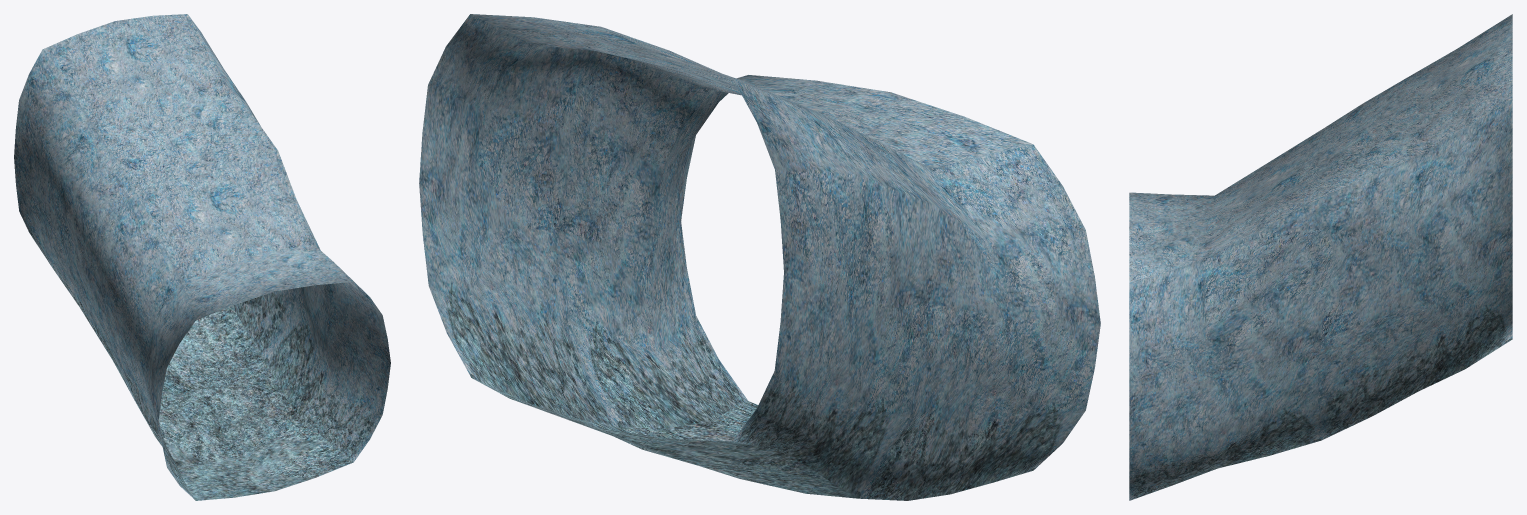
File: thm_all_cave_flatland_s03_ice_r15_r15.fbx
The picture shows the model from 3 angles, left to right: view 1: azimuth 30°, elevation 25°; view 2: azimuth 150°, elevation 25°; view 3: azimuth 270°, elevation 25°; orthographic projection. The views are drawn at different scales.
Visible parts, largest first — view 1: mesh_node; view 2: mesh_node; view 3: mesh_node.
Part boxes in pixels (x1,y1,x2,y2): mesh_node: (14,14,390,500); mesh_node: (419,14,1100,500); mesh_node: (1129,14,1512,500).
Size of the model in its own units: 10.42 by 15.14 by 12.44.
